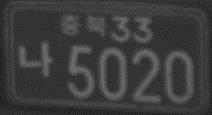0: (163, 50, 196, 104), (99, 46, 128, 100)
2: (130, 47, 160, 103)
3: (132, 16, 154, 44), (110, 15, 131, 42)
5: (66, 43, 95, 98)
나: (17, 40, 54, 76)
충북_O: (61, 13, 106, 37)
